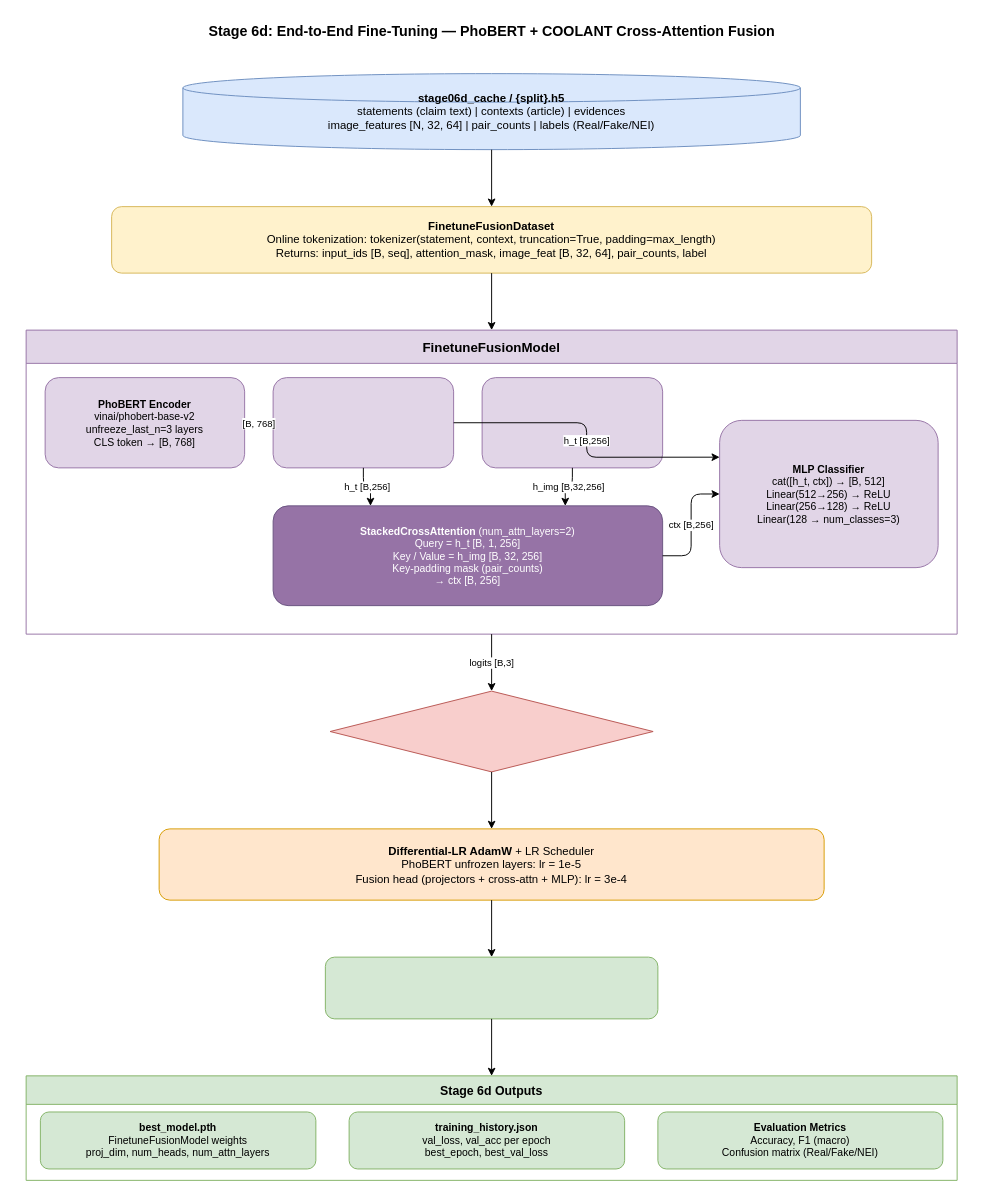
Image size: 982x1197. Some labels were removed from this diagram. Each missing label, with the centre of its shape:
Cross-Entropy Loss 3-class: Real / Fake / NEI: (x=491, y=731)
image_proj Linear(64 → proj_dim) LayerNorm + ReLU → h_img [B, 32, 256]: (x=572, y=422)
Prediction Real (0) | Fake (1) | NEI (2): (x=491, y=987)
text_proj Linear(768 → proj_dim) LayerNorm + ReLU → h_t [B, 256]: (x=363, y=422)
